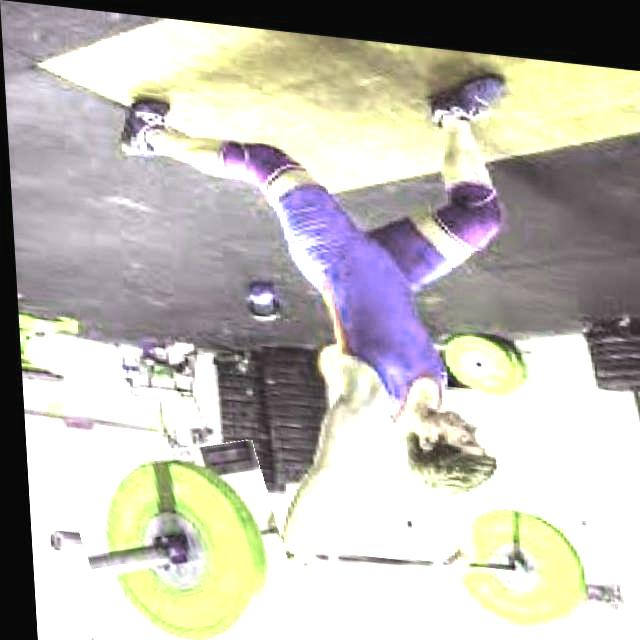barbell: (64, 430, 295, 640)
